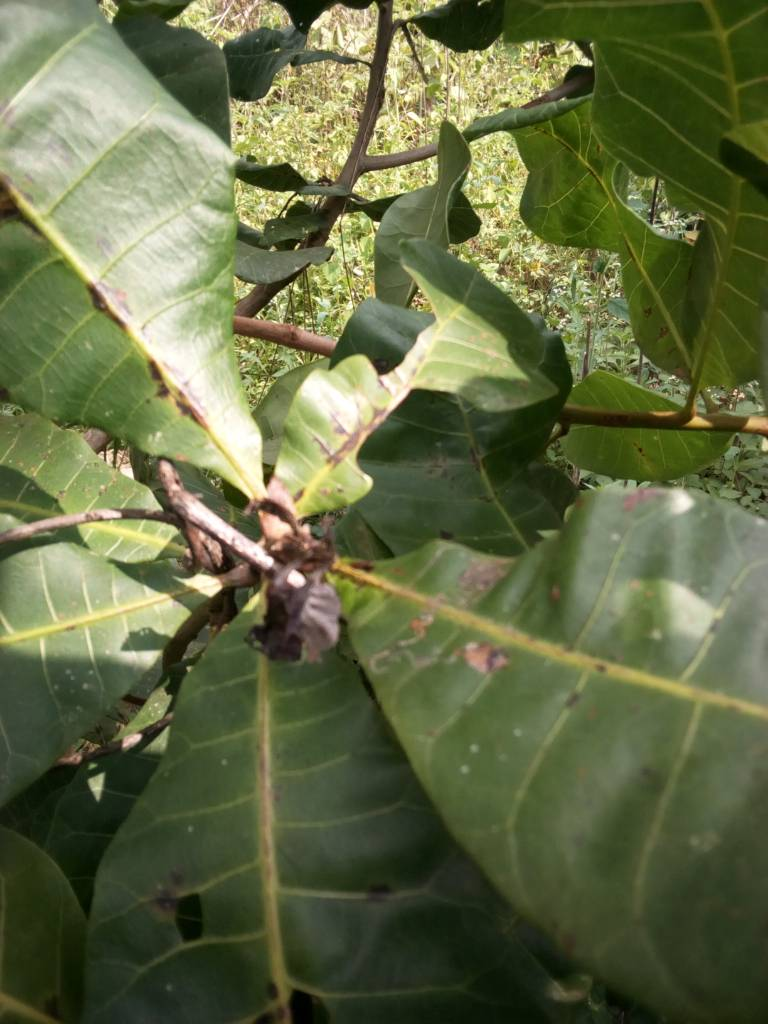Dessèchement des bourgeons: (163, 483, 374, 664)
